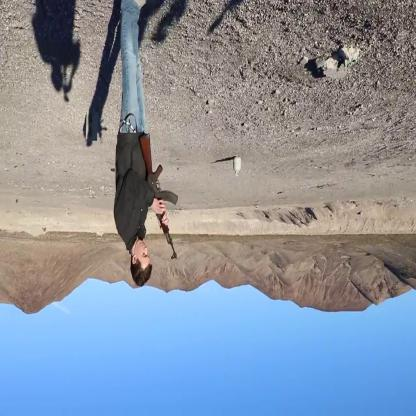long weapon: (138, 132, 188, 272)
